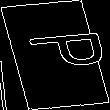P_E: (6, 33, 104, 77)
